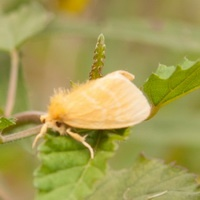insect: (48, 70, 151, 129)
